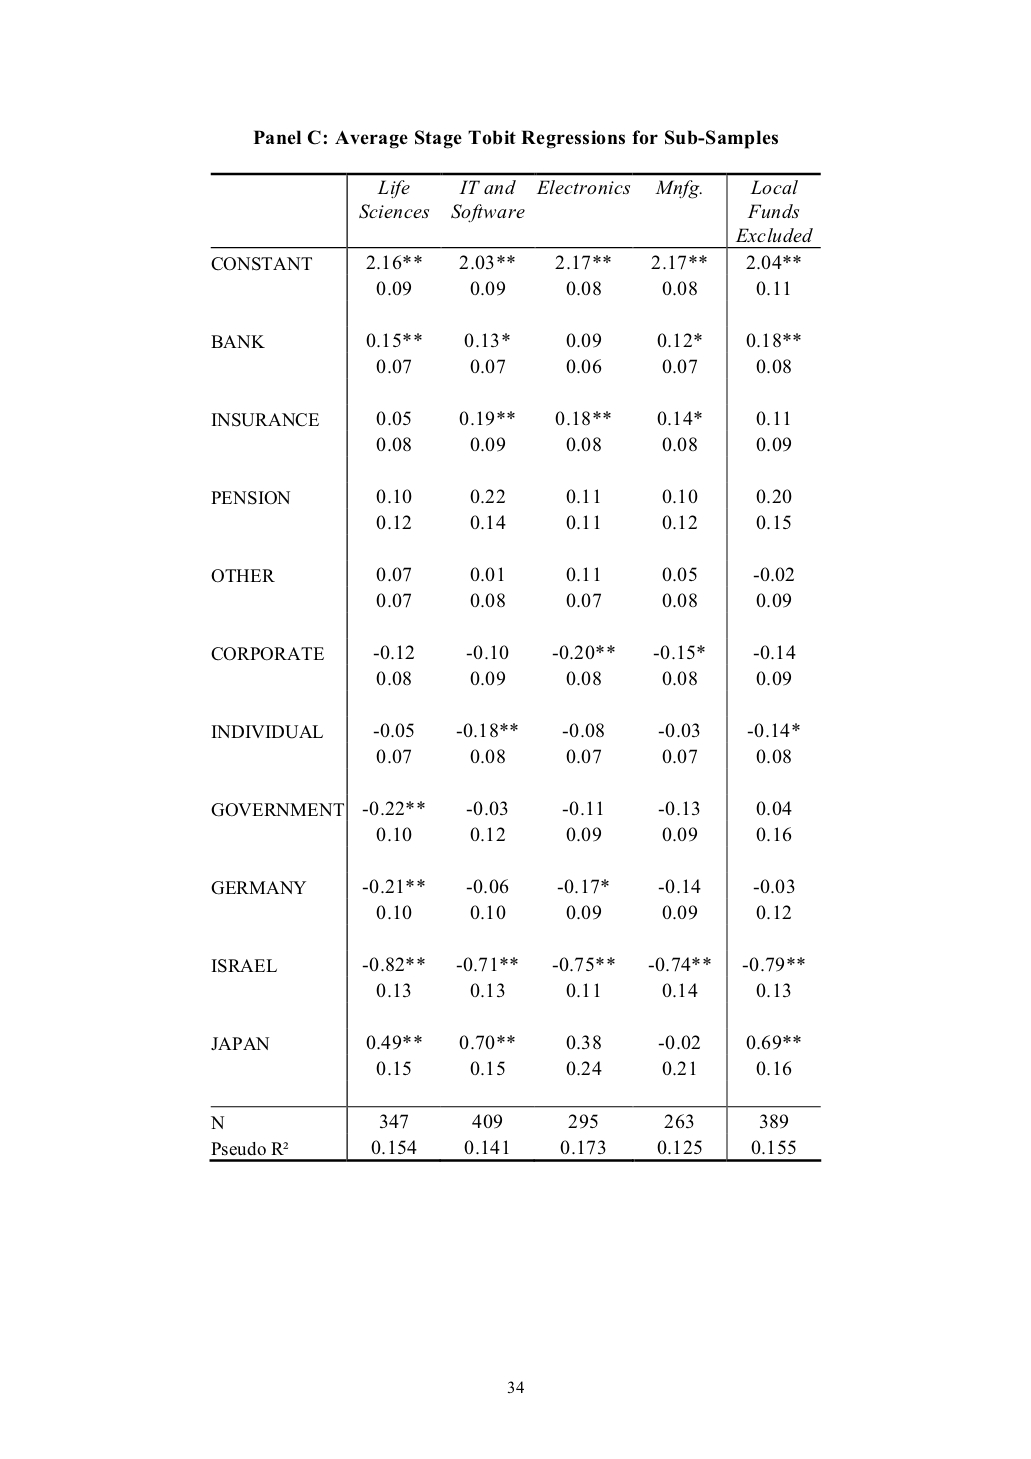Table: (209, 171, 821, 1162)
